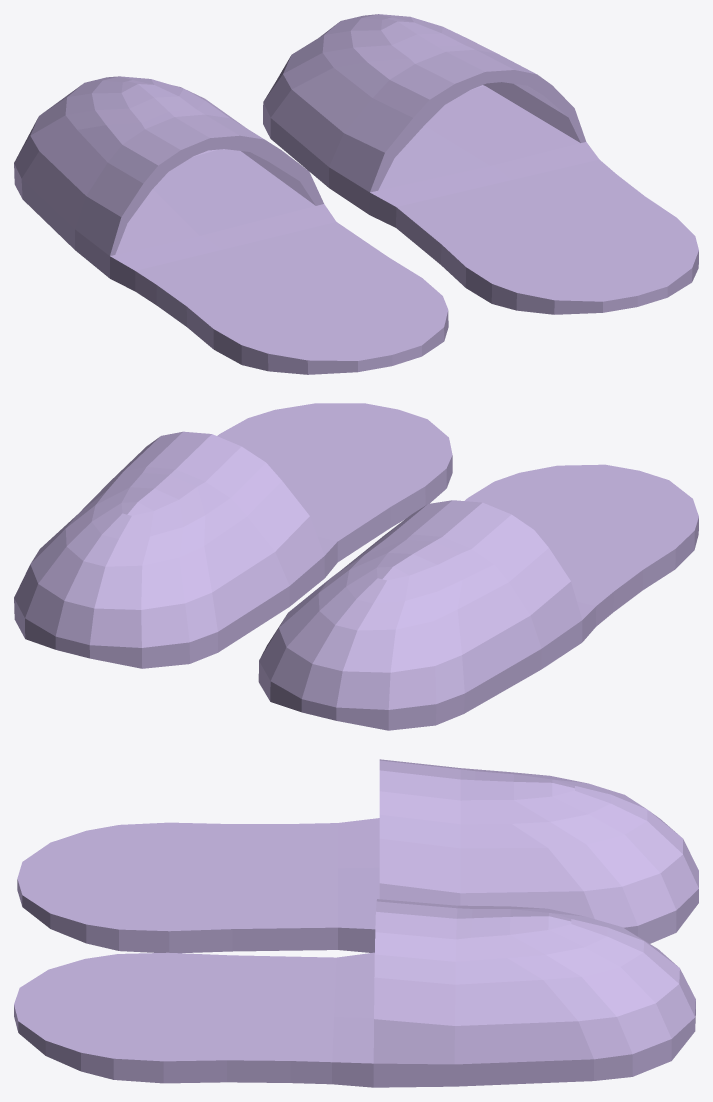
The model's file is Pantufas.fbx.
3 views of the same model, one above another, from view 1: azimuth 30°, elevation 25°; view 2: azimuth 150°, elevation 25°; view 3: azimuth 270°, elevation 25° (orthographic). The views are drawn at different scales.
Visible parts, largest first — view 1: Cube.001, Cube; view 2: Cube.001, Cube; view 3: Cube.001, Cube.
Part boxes in pixels (x1=…): Cube.001: x1=263, y1=14, x2=698, y2=314; Cube: x1=14, y1=76, x2=448, y2=374; Cube.001: x1=14, y1=403, x2=452, y2=668; Cube: x1=258, y1=464, x2=698, y2=730; Cube.001: x1=14, y1=899, x2=695, y2=1087; Cube: x1=17, y1=759, x2=698, y2=953.
Size of the model in its own units: 230 by 54.66 by 270.
